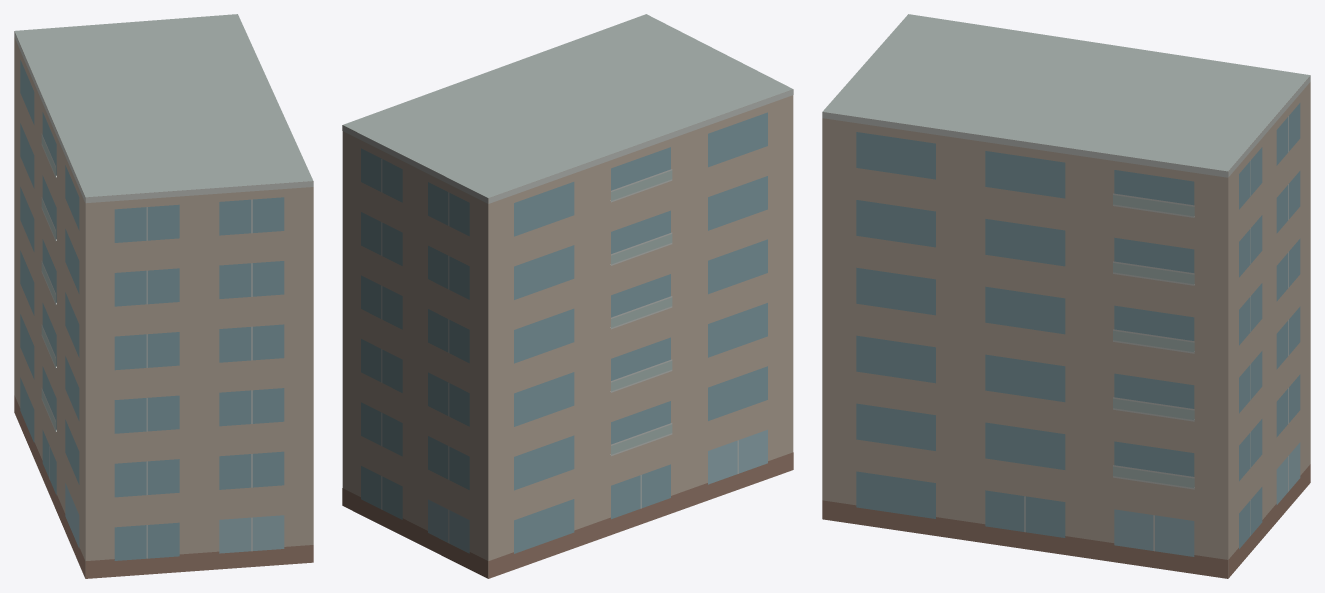
The model's file is survey-upis-32928781.glb.
The picture shows the model from 3 angles, left to right: view 1: azimuth 30°, elevation 25°; view 2: azimuth 150°, elevation 25°; view 3: azimuth 270°, elevation 25°; orthographic projection. The views are drawn at different scales.
Visible parts, largest first — view 1: survey-upis-32928781.tmp; view 2: survey-upis-32928781.tmp; view 3: survey-upis-32928781.tmp.
Part boxes in pixels (x1,y1,x2,y2): survey-upis-32928781.tmp: (14, 14, 313, 578); survey-upis-32928781.tmp: (342, 14, 793, 578); survey-upis-32928781.tmp: (822, 14, 1310, 578).
Size of the model in its own units: 13.1 by 15.8 by 17.17.
